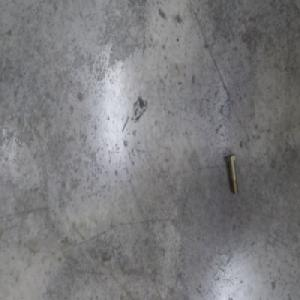Bolt: (225, 151, 239, 194)
